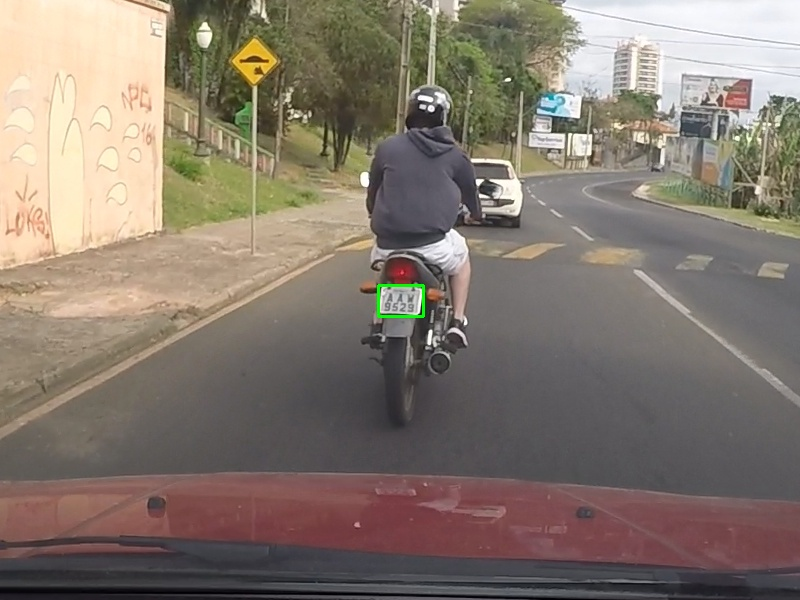placa: (378, 285, 423, 316)
